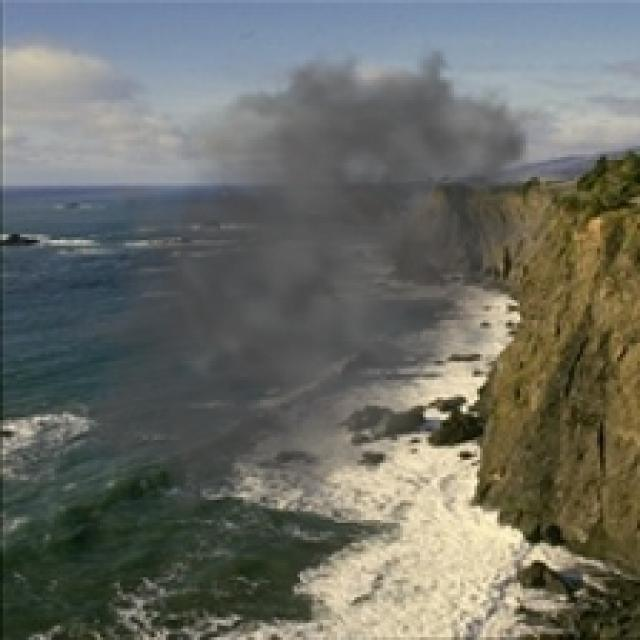Smoke: (51, 14, 568, 549)
